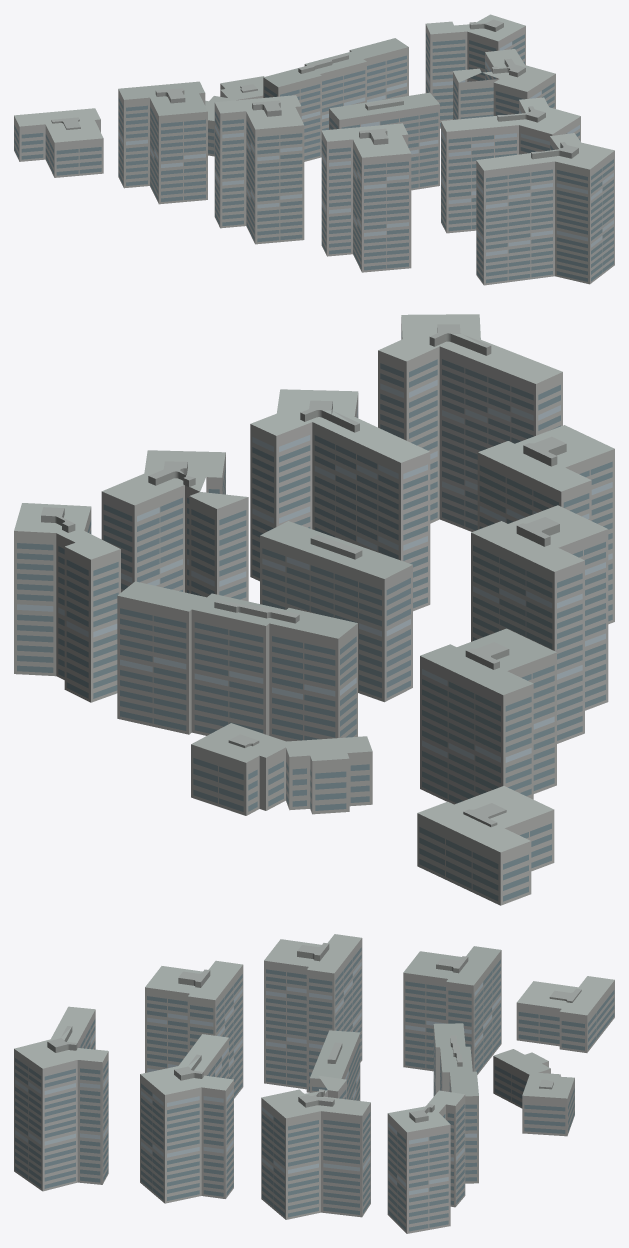
Rendered from apt-a13716002.glb.
3 views of the same model, one above another, from view 1: azimuth 30°, elevation 25°; view 2: azimuth 150°, elevation 25°; view 3: azimuth 270°, elevation 25° (orthographic). The views are drawn at different scales.
Visible parts, largest first — view 1: apt-a13716002; view 2: apt-a13716002; view 3: apt-a13716002.
Part boxes in pixels (box(x1,y1,x2,y2)): apt-a13716002: box(14, 14, 614, 285); apt-a13716002: box(14, 314, 614, 905); apt-a13716002: box(14, 934, 614, 1233).
Size of the model in its own units: 191 by 52 by 220.
